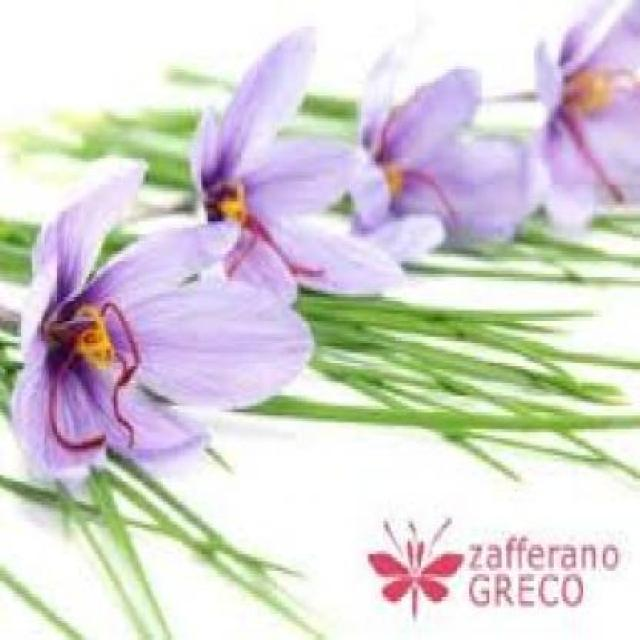Flower: (12, 147, 316, 482), (192, 21, 406, 308), (365, 50, 527, 285), (534, 0, 640, 229)
stigma: (240, 201, 324, 286), (563, 104, 625, 206), (107, 290, 147, 446), (36, 360, 98, 456)
